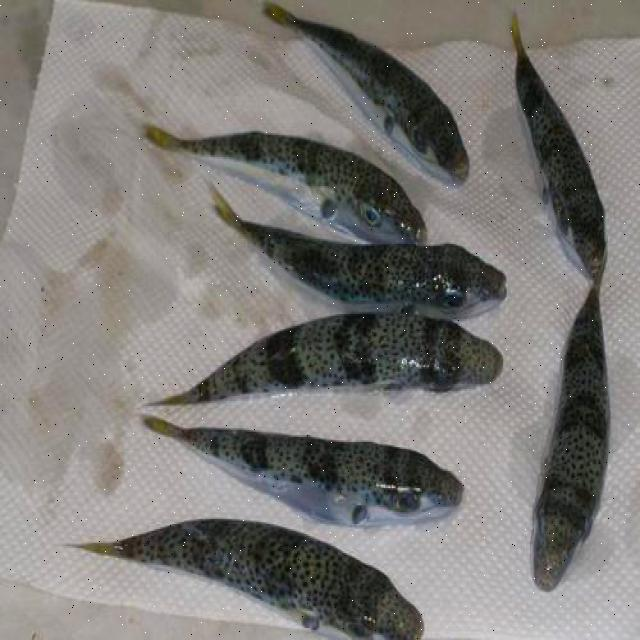Balik: (80, 519, 423, 639), (213, 190, 505, 317), (264, 2, 469, 182), (144, 417, 463, 525), (146, 127, 426, 244), (155, 313, 503, 404), (512, 16, 605, 283), (534, 287, 609, 590)
